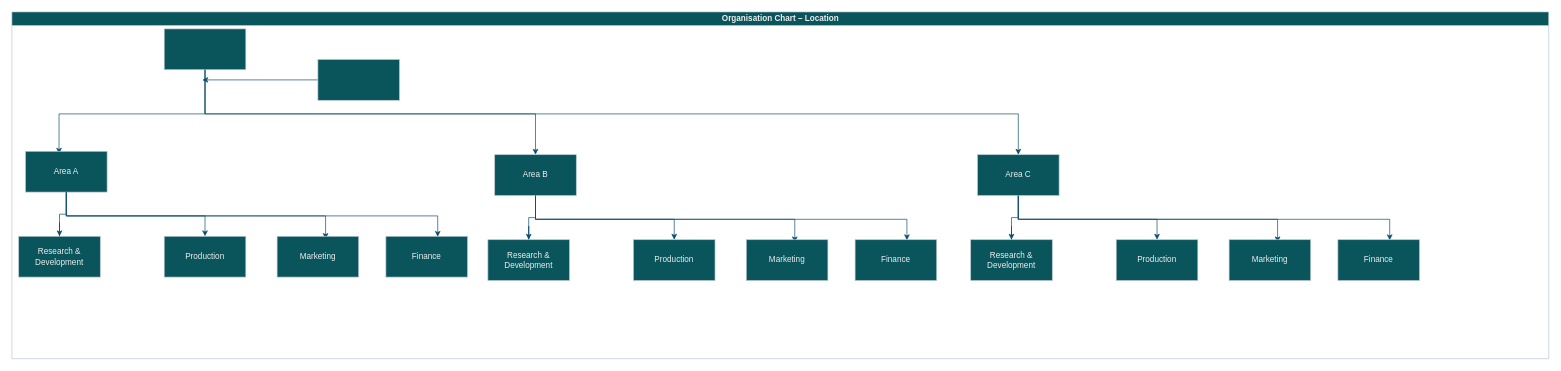
The diagram is 1561 pixels wide and 371 high, and some of its shapes have lost their labels. The centre of each missing label's shape, as x and y in pixels:
Human Resourses Management: (x=358, y=79)
Managing Director: (x=205, y=49)
